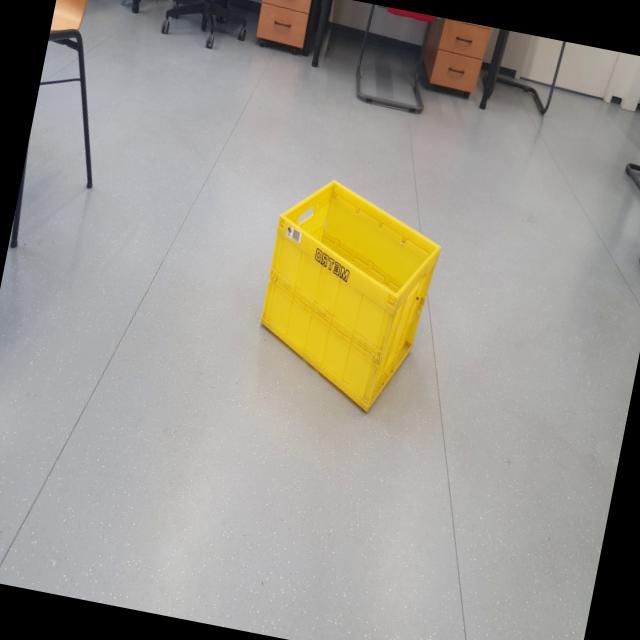box: (234, 168, 457, 430)
